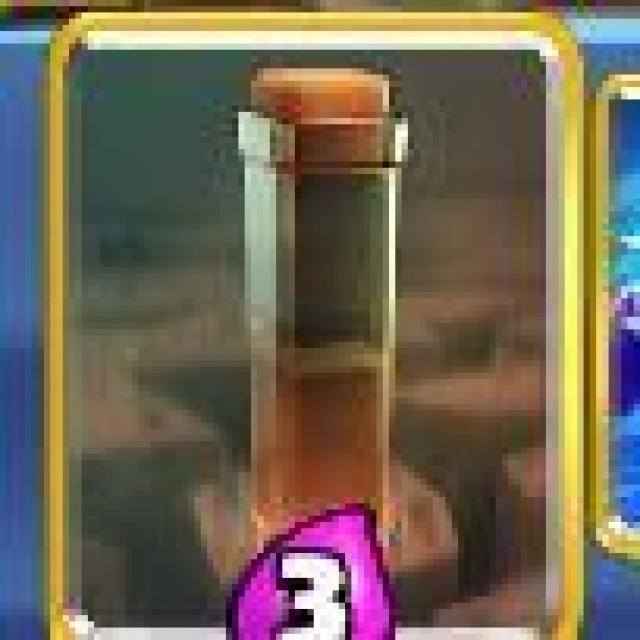Earthquake: (37, 10, 590, 640)
